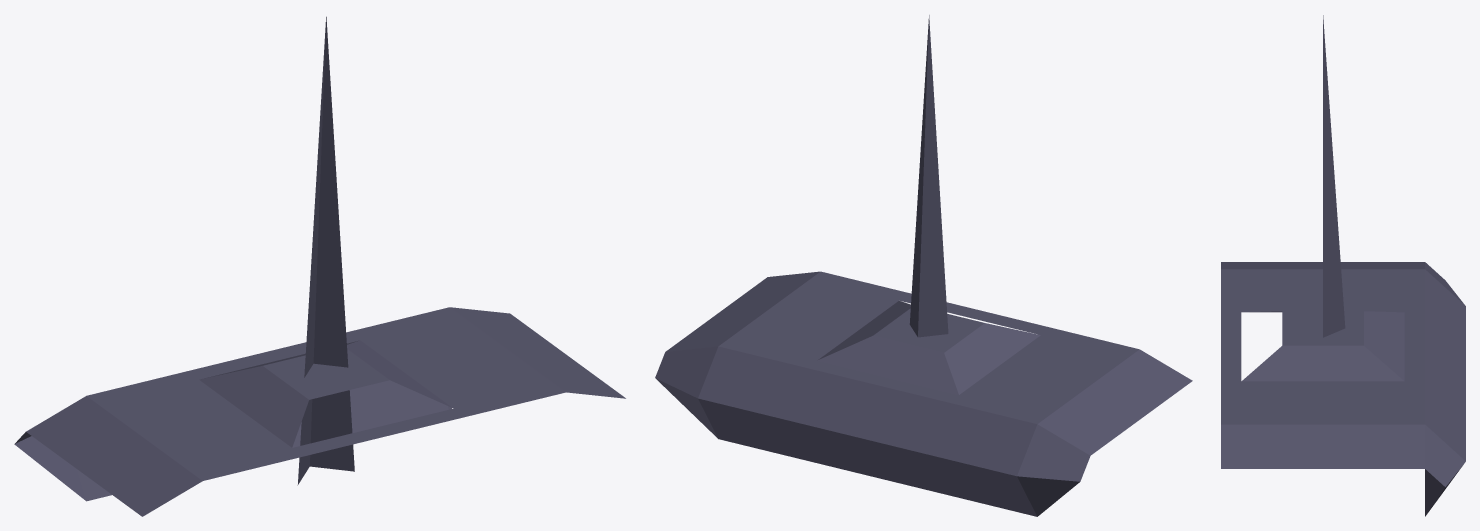
File: tool_stick.fbx
3 renders of one model, left to right at view 1: azimuth 30°, elevation 25°; view 2: azimuth 150°, elevation 25°; view 3: azimuth 270°, elevation 25°, orthographic. The views are drawn at different scales.
Parts seen in each view (by area): view 1: tool_stick_base, tool_stick_needle; view 2: tool_stick_base, tool_stick_needle; view 3: tool_stick_base, tool_stick_needle.
Part boxes in pixels (x1,y1,x2,y2): tool_stick_base: [14, 307, 625, 516]; tool_stick_needle: [297, 16, 354, 485]; tool_stick_base: [655, 271, 1192, 516]; tool_stick_needle: [909, 15, 948, 337]; tool_stick_base: [1221, 262, 1465, 516]; tool_stick_needle: [1323, 15, 1345, 337].
Size of the model in its own units: 60 by 57.5 by 30.
